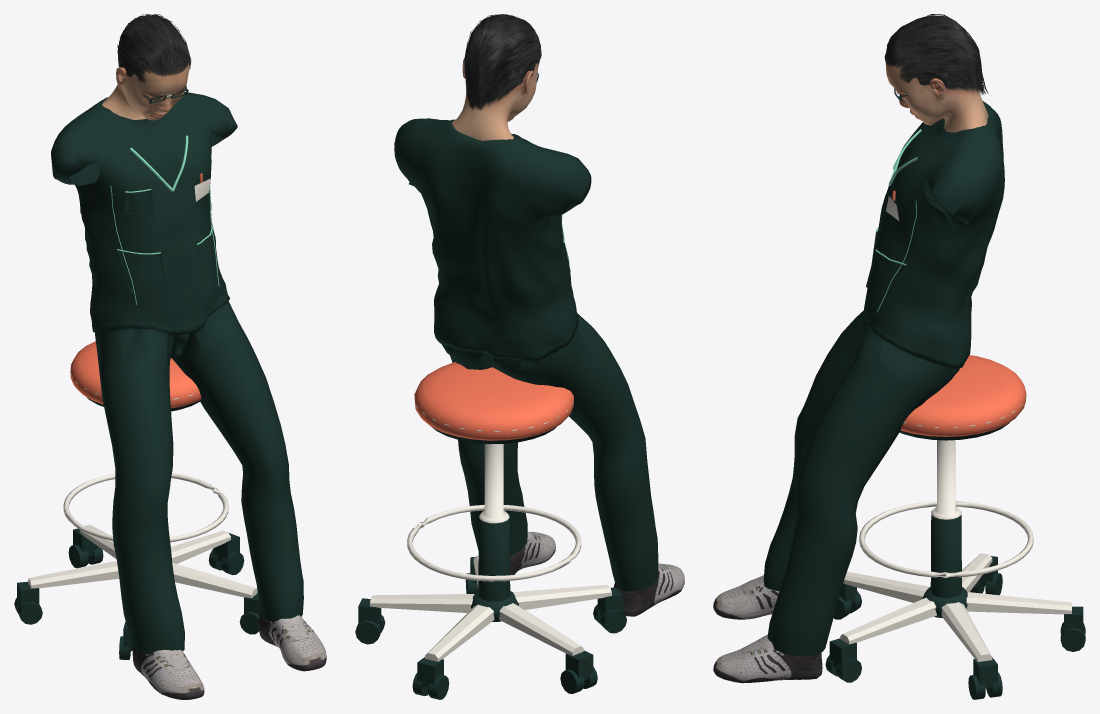
The model's file is therapist.glb.
3 renders of one model, left to right at view 1: azimuth 30°, elevation 25°; view 2: azimuth 150°, elevation 25°; view 3: azimuth 270°, elevation 25°, orthographic. The views are drawn at different scales.
Visible parts, largest first — view 1: therapist_pants, therapist_shirt, stool, therapist_shoes, therapist_hair, therapist_skin, stool.foot.ring; view 2: therapist_shirt, stool, therapist_pants, therapist_hair, therapist_shoes, therapist_skin, stool.foot.ring; view 3: therapist_pants, therapist_shirt, stool, therapist_hair, therapist_shoes, therapist_skin, stool.foot.ring.
Boxes of the visible parts, x1=… form: therapist_pants: x1=94, y1=300, x2=303, y2=654; therapist_shirt: x1=51, y1=92, x2=237, y2=335; stool: x1=14, y1=341, x2=260, y2=659; therapist_shoes: x1=132, y1=612, x2=326, y2=699; therapist_hair: x1=117, y1=14, x2=191, y2=82; therapist_skin: x1=102, y1=63, x2=189, y2=120; stool.foot.ring: x1=63, y1=473, x2=228, y2=542; therapist_shirt: x1=394, y1=118, x2=591, y2=362; stool: x1=355, y1=362, x2=626, y2=699; therapist_pants: x1=441, y1=313, x2=658, y2=591; therapist_hair: x1=464, y1=14, x2=541, y2=111; therapist_shoes: x1=510, y1=531, x2=684, y2=616; therapist_skin: x1=452, y1=58, x2=538, y2=140; stool.foot.ring: x1=407, y1=504, x2=581, y2=581; therapist_pants: x1=763, y1=311, x2=959, y2=656; therapist_shirt: x1=859, y1=101, x2=1004, y2=368; stool: x1=825, y1=355, x2=1085, y2=699; therapist_hair: x1=884, y1=14, x2=988, y2=94; therapist_shoes: x1=713, y1=575, x2=822, y2=683; therapist_skin: x1=885, y1=61, x2=988, y2=132; stool.foot.ring: x1=859, y1=501, x2=1033, y2=577.
Bounding box in the file's own units: 0.6149 × 1.56 × 0.8368.
Materials: 15 (8 with a texture image).
